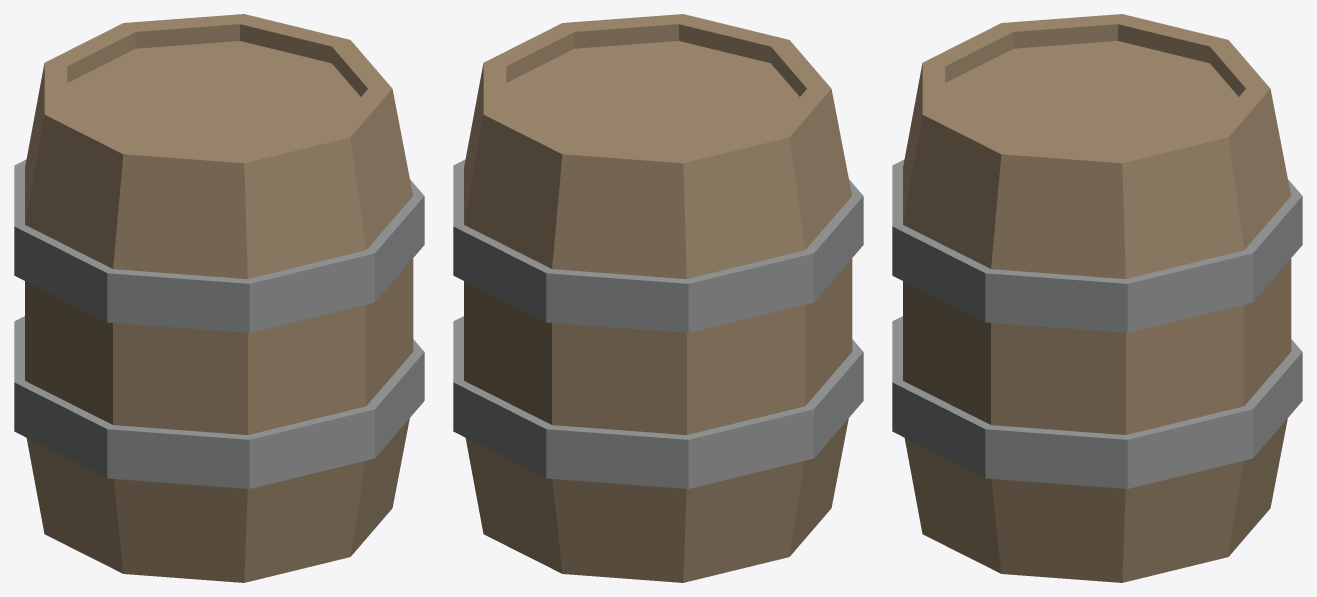
The model's file is Sandy Two Ringed Barrel.fbx.
3 renders of one model, left to right at view 1: azimuth 30°, elevation 25°; view 2: azimuth 150°, elevation 25°; view 3: azimuth 270°, elevation 25°, orthographic.
Visible parts, largest first — view 1: Sandy Two Ringed Barrel; view 2: Sandy Two Ringed Barrel; view 3: Sandy Two Ringed Barrel.
Part boxes in pixels (box(x1,y1,x2,y2)): Sandy Two Ringed Barrel: box(14, 14, 424, 582); Sandy Two Ringed Barrel: box(453, 14, 863, 582); Sandy Two Ringed Barrel: box(892, 14, 1302, 582).
Size of the model in its own units: 180 by 200 by 177.
